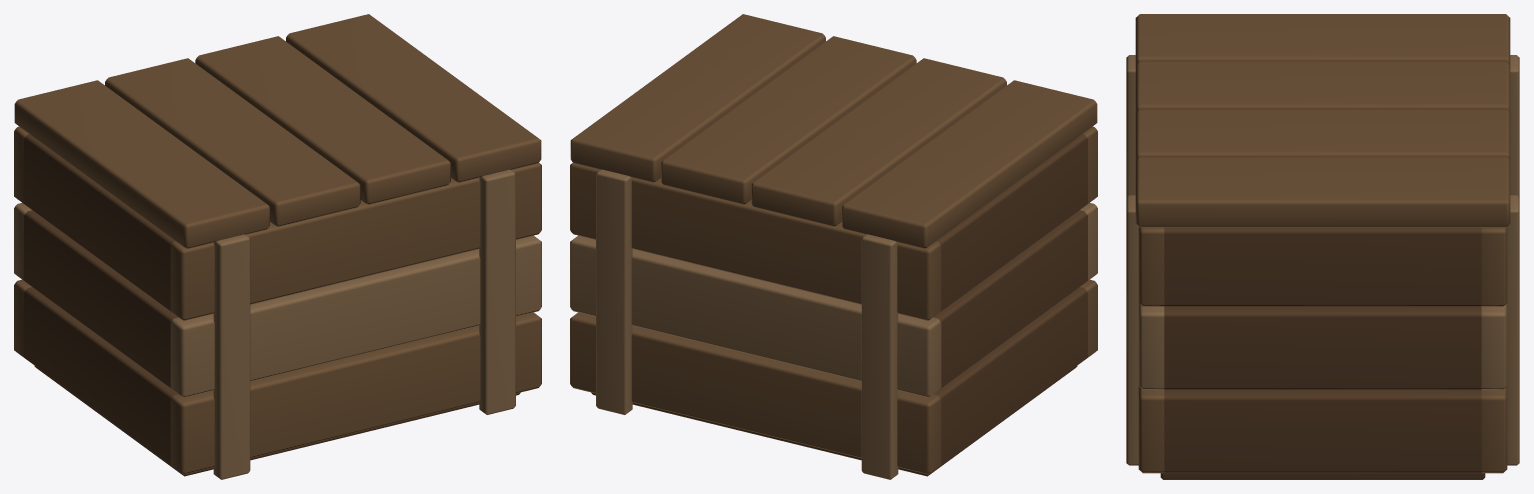
Rendered from WoodCrate01.fbx.
The picture shows the model from 3 angles, left to right: view 1: azimuth 30°, elevation 25°; view 2: azimuth 150°, elevation 25°; view 3: azimuth 270°, elevation 25°; orthographic projection. The views are drawn at different scales.
Visible parts, largest first — view 1: WoodCrate01.001; view 2: WoodCrate01.001; view 3: WoodCrate01.001.
Boxes of the visible parts, x1=… form: WoodCrate01.001: x1=14, y1=14, x2=541, y2=479; WoodCrate01.001: x1=570, y1=14, x2=1097, y2=479; WoodCrate01.001: x1=1126, y1=14, x2=1519, y2=479.
Bounding box in the file's own units: 64 × 44.5 × 55.7.
